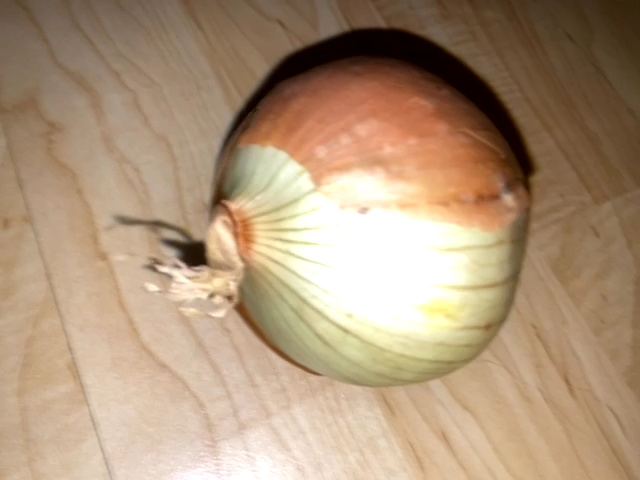onion: (111, 25, 544, 394)
